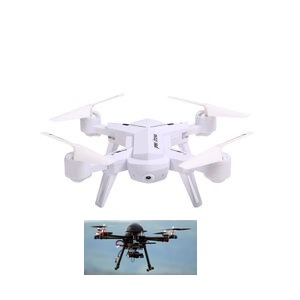drone: (45, 92, 253, 208), (84, 220, 197, 275)
